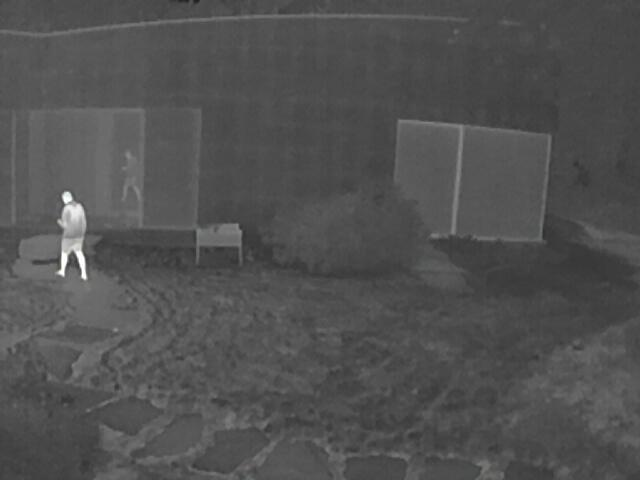person: (58, 190, 88, 281), (120, 150, 142, 205)
